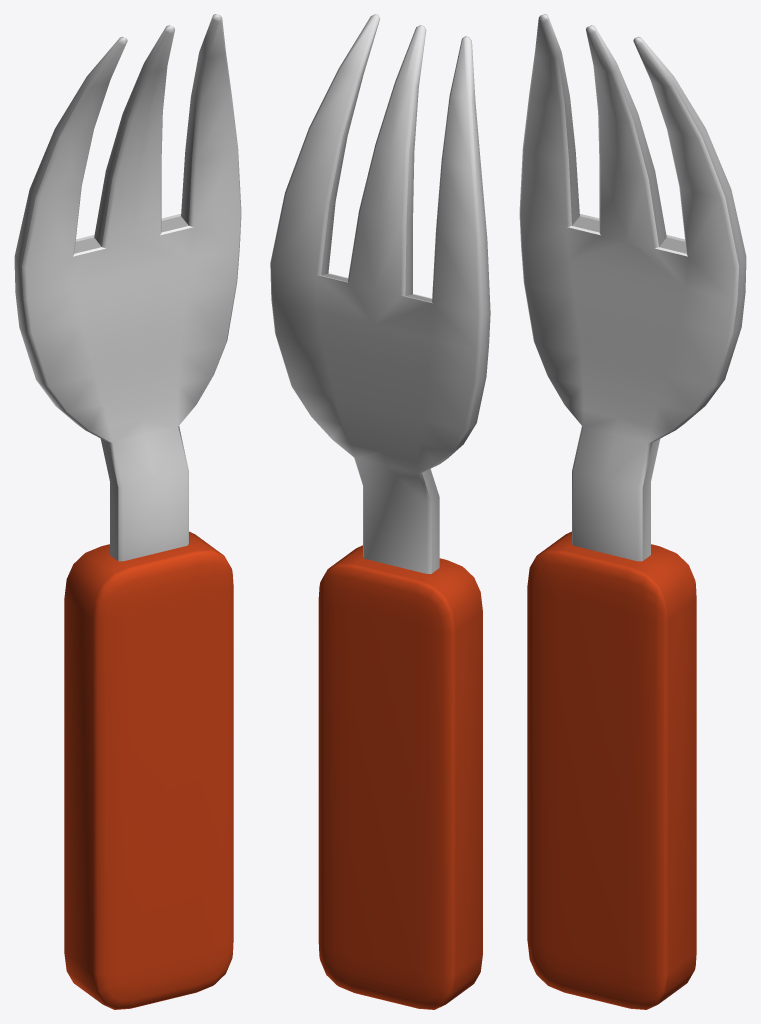
The model's file is ENV2010047.fbx.
The picture shows the model from 3 angles, left to right: view 1: azimuth 30°, elevation 25°; view 2: azimuth 150°, elevation 25°; view 3: azimuth 330°, elevation 25°; orthographic projection. The views are drawn at different scales.
Visible parts, largest first — view 1: smENV2010047; view 2: smENV2010047; view 3: smENV2010047.
Boxes of the visible parts, left/top/right/bottom form: smENV2010047: left=14, top=14, right=241, bottom=1009; smENV2010047: left=270, top=14, right=490, bottom=1009; smENV2010047: left=519, top=14, right=746, bottom=1009.
Bounding box in the file's own units: 2.47 × 10.54 × 0.9796.
Materials: 1 (1 with a texture image).
